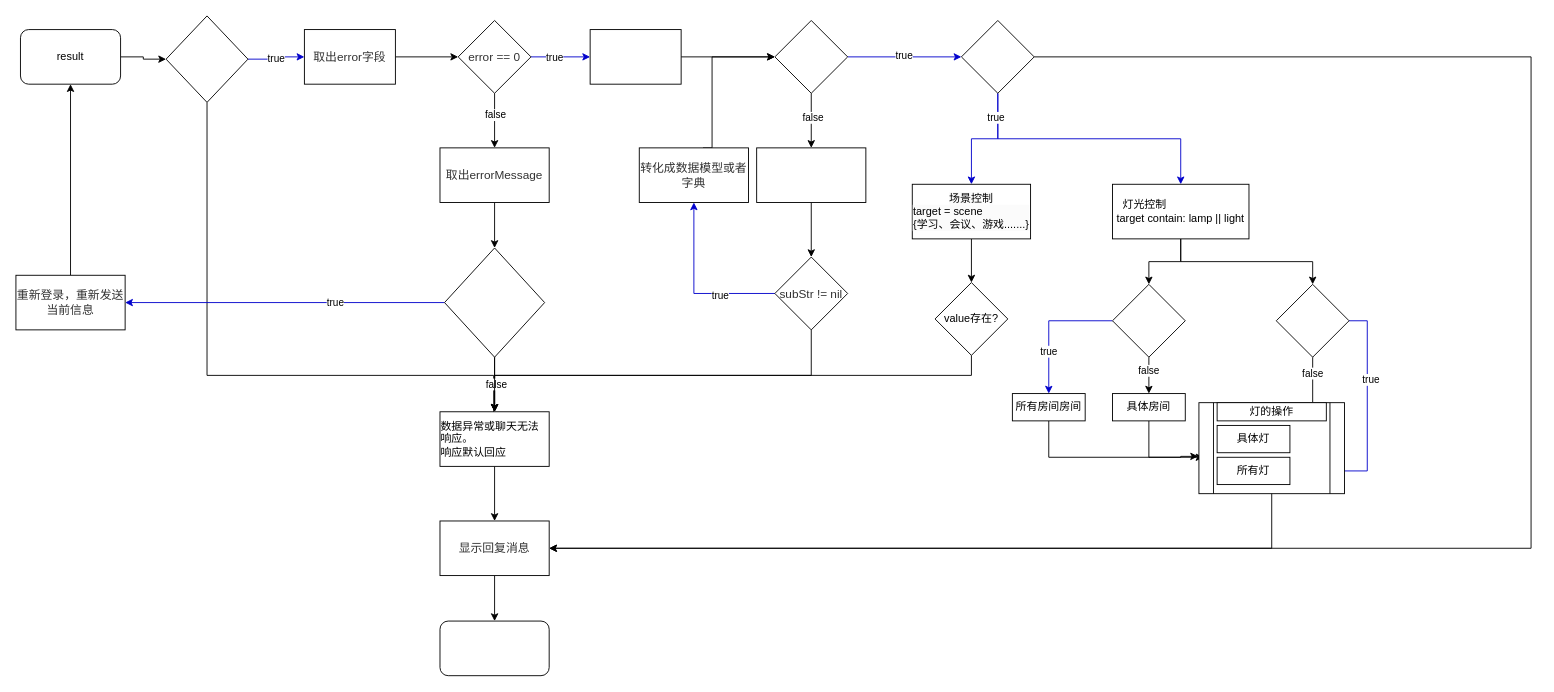
The diagram is 1554 pixels wide and 692 high, and some of its shapes have lost their labels. The box of each missing label's shape, as (x1, y1, x2, y2) in pixels:
action == command: (961, 20, 1034, 93)
model != nil: (774, 20, 848, 93)
取出response，转化成数据模型或者字典: (589, 29, 681, 84)
房间过滤 location == all rooms: (1112, 283, 1185, 357)
房间过滤 target == all lights: (1275, 283, 1349, 357)
是否包含conversation_id: (444, 247, 545, 357)
结束: (439, 620, 549, 676)
获取response中包含第一组{}在内的字符串 subStr: (756, 147, 866, 202)
转换成数据模型或字典？: (165, 15, 248, 102)
